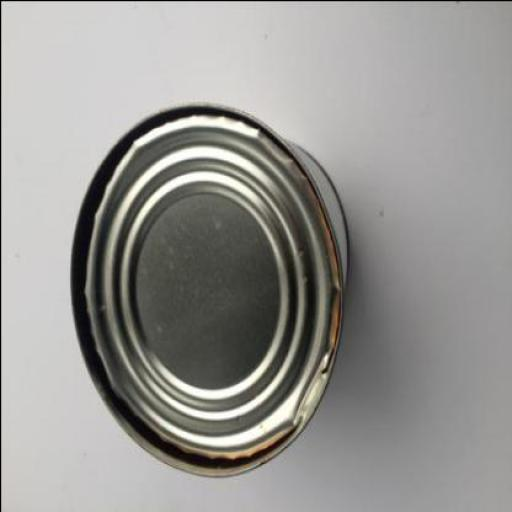metal: (67, 106, 347, 477)
